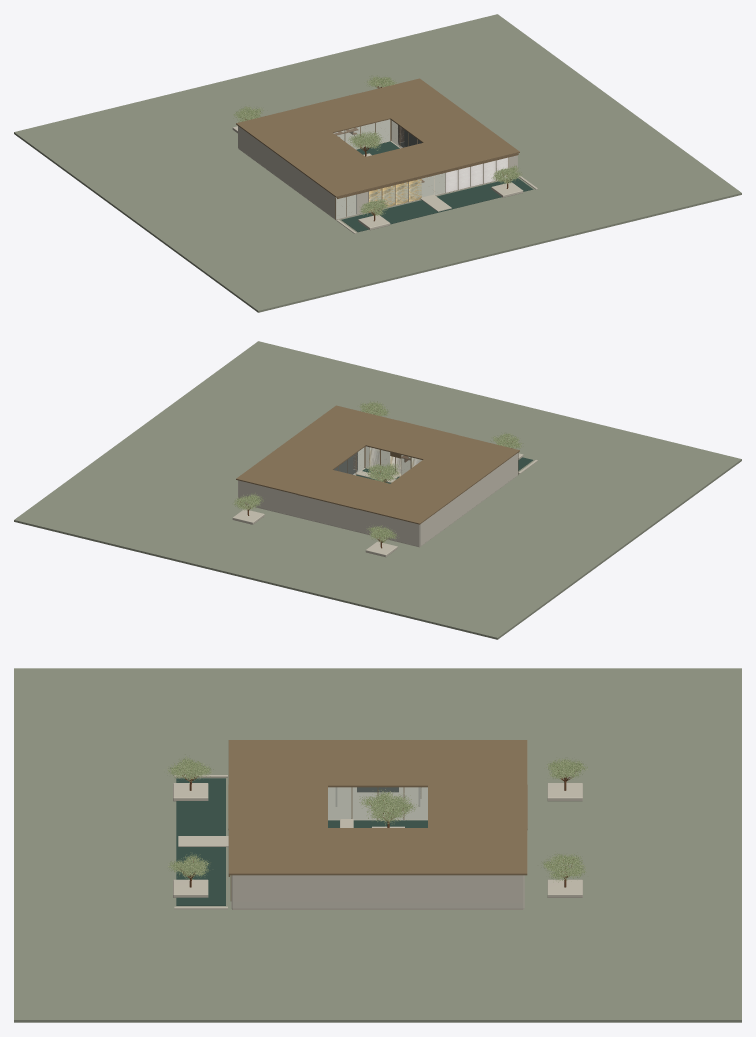
File: museum-master.glb
3 renders of one model, top to bottom at view 1: azimuth 30°, elevation 25°; view 2: azimuth 150°, elevation 25°; view 3: azimuth 270°, elevation 25°, orthographic. The views are drawn at different scales.
Parts seen in each view (by area): view 1: Ground, Roof west/east, Roof west/east.001, Perimeter wall, Exterior reflecting water, Roof north/south.001, Roof north/south, Museum plinth, Courtyard glazing.004; view 2: Ground, Roof west/east, Roof west/east.001, North perimeter wall, Perimeter wall, Roof north/south, Roof north/south.001, Museum plinth, Olive individual leaves; view 3: Ground, Roof west/east.001, Roof west/east, Perimeter wall.001, Roof north/south, Roof north/south.001, Exterior reflecting water, Museum plinth, Courtyard glazing, Olive individual leaves, Olive individual leaves.004, Olive individual leaves.001 (+7 smaller).
Boxes of the visible parts, box(x1,y1,x2,y2) form: Ground: box(14, 14, 741, 312); Roof west/east: box(236, 108, 397, 197); Roof west/east.001: box(358, 78, 519, 167); Perimeter wall: box(238, 126, 336, 219); Exterior reflecting water: box(341, 177, 533, 232); Roof north/south.001: box(298, 93, 390, 132); Roof north/south: box(366, 142, 458, 182); Museum plinth: box(239, 119, 507, 220); Courtyard glazing.004: box(334, 119, 389, 148); Ground: box(14, 341, 741, 639); Roof west/east: box(358, 435, 519, 524); Roof west/east.001: box(236, 405, 397, 494); North perimeter wall: box(238, 480, 419, 546); Perimeter wall: box(419, 453, 517, 546); Roof north/south: box(365, 420, 457, 459); Roof north/south.001: box(297, 469, 389, 509); Museum plinth: box(245, 446, 516, 547); Olive individual leaves: box(363, 462, 400, 482); Ground: box(14, 668, 741, 1022); Roof west/east.001: box(228, 828, 527, 875); Roof west/east: box(228, 740, 527, 787); Perimeter wall.001: box(232, 875, 523, 908); Roof north/south: box(228, 784, 327, 829); Roof north/south.001: box(428, 784, 527, 829); Exterior reflecting water: box(176, 778, 225, 905); Museum plinth: box(232, 787, 523, 909); Courtyard glazing: box(328, 787, 427, 819); Olive individual leaves: box(359, 789, 418, 826); Olive individual leaves.004: box(541, 853, 586, 882); Olive individual leaves.001: box(164, 754, 215, 783).
Size of the model in its own units: 80 by 4.72 by 70.
Materials: 29 (8 with a texture image).
